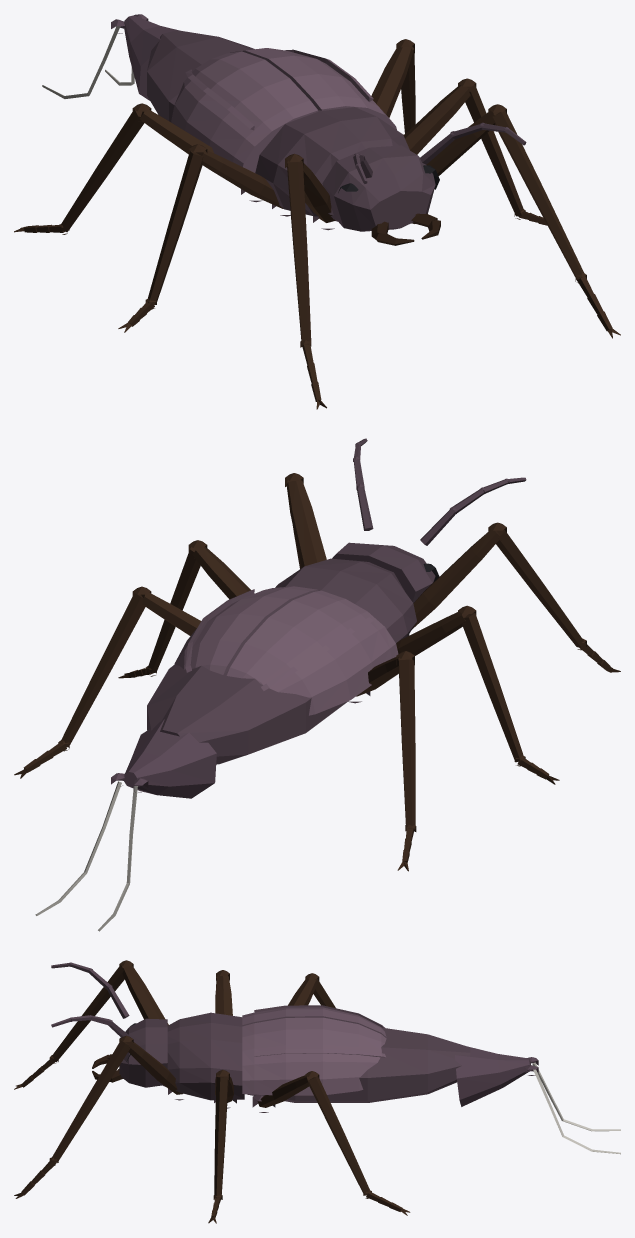
Rendered from puppeteer.glb.
3 renders of one model, top to bottom at view 1: azimuth 30°, elevation 25°; view 2: azimuth 150°, elevation 25°; view 3: azimuth 270°, elevation 25°, orthographic. The views are drawn at different scales.
Visible parts, largest first — view 1: BeetlePlate_01, HeadBase001, ThoraxCore, BeetlePlate_00, BeetleBodyInner, Tibia001, Tibia000, Tibia003, pup_spinner, Tibia005, Femur002, Femur003 (+7 smaller); view 2: BeetlePlate_01, BeetleBodyInner, ThoraxCore, BeetlePlate_00, pup_spinner, HeadBase001, Tibia004, Tibia005, Tibia003, Femur001, Femur000, Tibia001 (+6 smaller); view 3: BeetlePlate_00, BeetleBodyInner, ThoraxCore, pup_spinner, HeadBase001, BeetlePlate_01, Tibia000, Tibia004, Tibia002, Tibia001, Femur001, Femur000 (+4 smaller).
Part boxes in pixels (bbox=[...]): BeetlePlate_01: bbox=[171, 51, 318, 172]; HeadBase001: bbox=[322, 145, 435, 231]; ThoraxCore: bbox=[255, 107, 409, 221]; BeetlePlate_00: bbox=[230, 48, 396, 129]; BeetleBodyInner: bbox=[147, 30, 254, 121]; Tibia001: bbox=[287, 162, 311, 345]; Tibia000: bbox=[492, 110, 583, 279]; Tibia003: bbox=[147, 151, 203, 304]; pup_spinner: bbox=[111, 14, 179, 100]; Tibia005: bbox=[60, 109, 144, 232]; Femur002: bbox=[404, 85, 470, 154]; Femur003: bbox=[196, 150, 283, 208]; BeetlePlate_01: bbox=[226, 590, 398, 715]; BeetleBodyInner: bbox=[147, 665, 348, 764]; ThoraxCore: bbox=[275, 558, 416, 643]; BeetlePlate_00: bbox=[174, 586, 318, 674]; pup_spinner: bbox=[111, 719, 216, 798]; HeadBase001: bbox=[332, 542, 435, 602]; Tibia004: bbox=[60, 593, 145, 747]; Tibia005: bbox=[398, 659, 415, 829]; Tibia003: bbox=[462, 612, 524, 762]; Femur001: bbox=[412, 529, 501, 629]; Femur000: bbox=[286, 480, 326, 567]; Tibia001: bbox=[496, 529, 585, 647]; BeetlePlate_00: bbox=[242, 1017, 386, 1095]; BeetleBodyInner: bbox=[247, 1027, 470, 1102]; ThoraxCore: bbox=[163, 1012, 244, 1100]; pup_spinner: bbox=[455, 1047, 538, 1106]; HeadBase001: bbox=[119, 1018, 167, 1087]; BeetlePlate_01: bbox=[242, 1005, 386, 1037]; Tibia000: bbox=[52, 1040, 131, 1162]; Tibia004: bbox=[308, 1076, 369, 1195]; Tibia002: bbox=[214, 1076, 228, 1198]; Tibia001: bbox=[51, 965, 125, 1061]; Femur001: bbox=[122, 965, 168, 1025]; Femur000: bbox=[125, 1041, 182, 1094].
Size of the model in its own units: 3.18 by 1.4 by 5.03.
